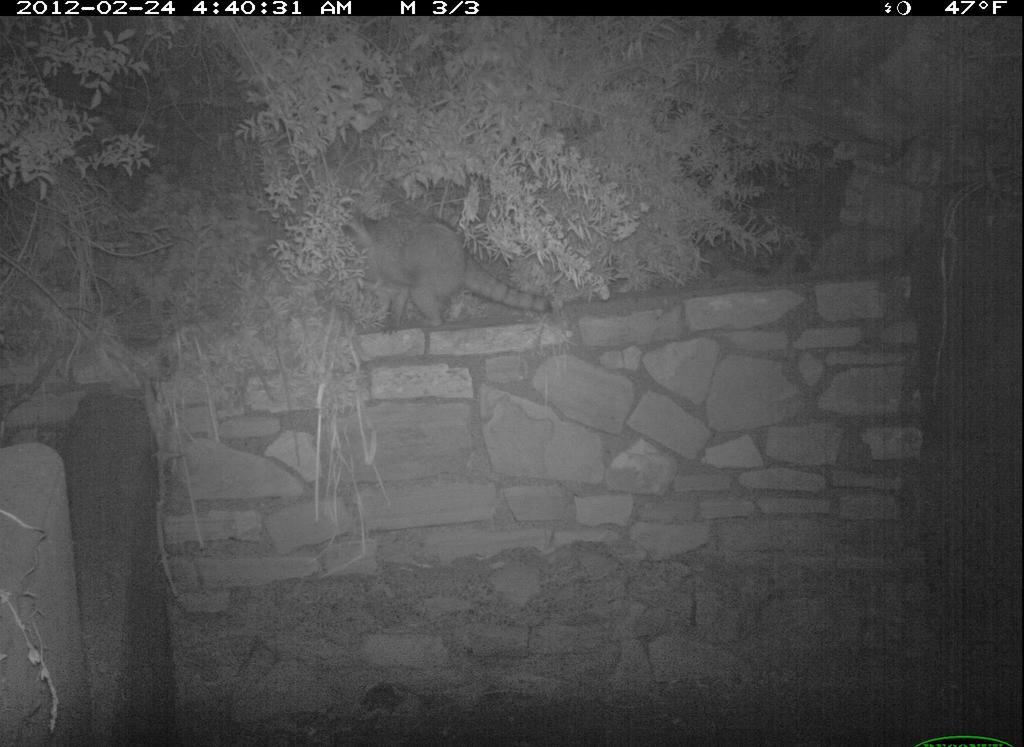raccoon: (331, 185, 565, 333)
